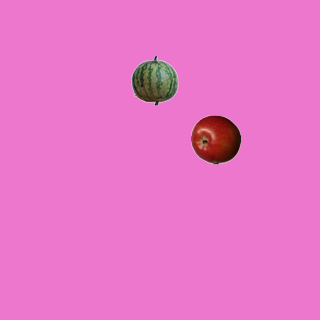Apple Braeburn: (190, 114, 240, 164)
Watermelon: (129, 55, 179, 105)
